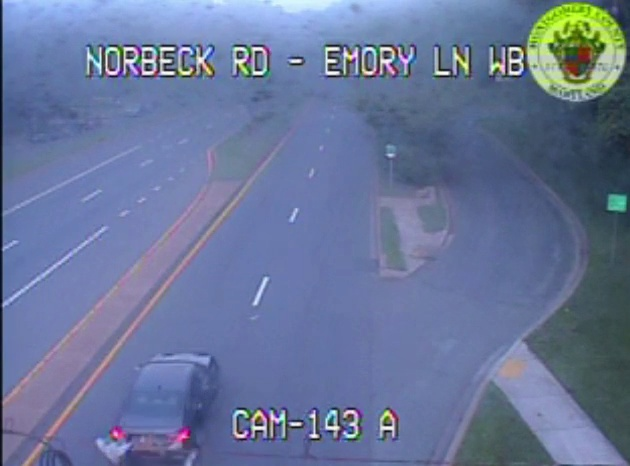car: (117, 352, 220, 453)
